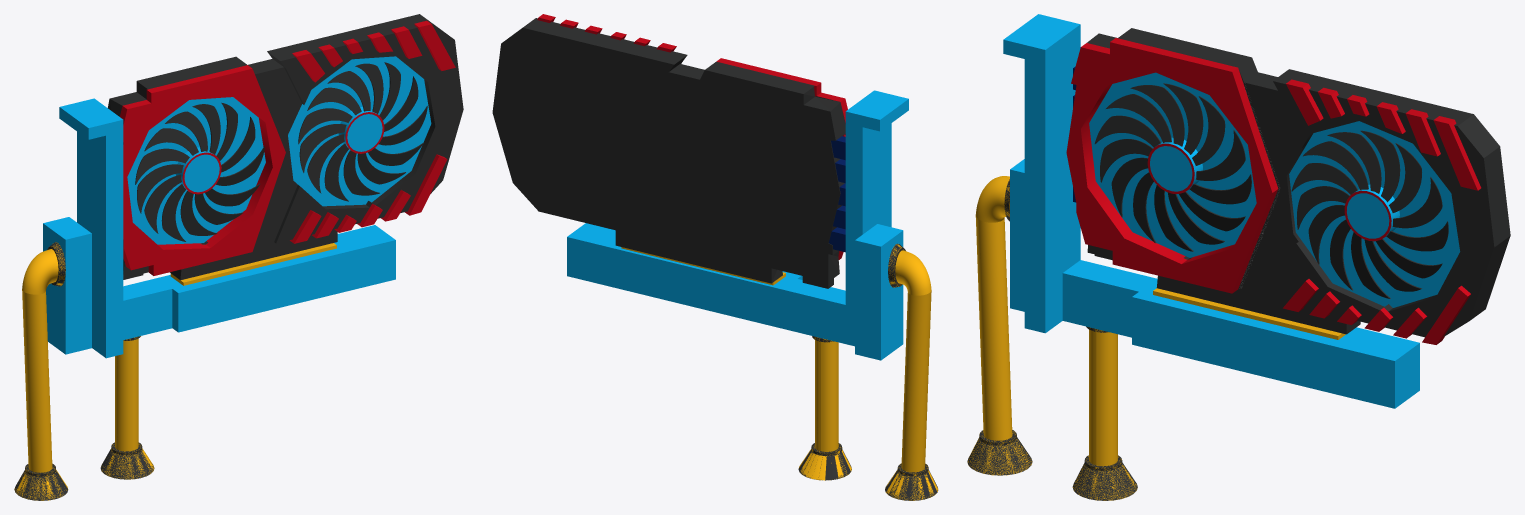
Rendered from gpu_2_fan.fbx.
3 views of the same model, side by side, from view 1: azimuth 30°, elevation 25°; view 2: azimuth 150°, elevation 25°; view 3: azimuth 330°, elevation 25° (orthographic). The views are drawn at different scales.
Visible parts, largest first — view 1: Group2, Group1, Group3, Group83, Group41, Group47, Group68, Group35, Group56, Group29, Group53, Group8 (+18 smaller); view 2: Group2, Group1, Group82; view 3: Group2, Group1, Group3, Group83, Group26, Group50, Group59, Group38, Group71, Group32, Group80, Group20 (+18 smaller).
Part boxes in pixels (bbox=[...]): Group2: bbox=[43, 14, 463, 358]; Group1: bbox=[14, 242, 154, 500]; Group3: bbox=[175, 107, 384, 194]; Group83: bbox=[170, 243, 336, 285]; Group41: bbox=[137, 164, 183, 213]; Group47: bbox=[300, 124, 346, 172]; Group68: bbox=[307, 134, 344, 193]; Group35: bbox=[144, 175, 181, 233]; Group56: bbox=[298, 108, 352, 143]; Group29: bbox=[136, 149, 189, 183]; Group53: bbox=[325, 144, 348, 201]; Group8: bbox=[162, 184, 185, 241]; Group2: bbox=[492, 14, 908, 360]; Group1: bbox=[798, 243, 938, 500]; Group82: bbox=[829, 136, 845, 252]; Group2: bbox=[1003, 14, 1510, 408]; Group1: bbox=[967, 176, 1137, 500]; Group3: bbox=[1147, 137, 1399, 241]; Group83: bbox=[1153, 288, 1345, 339]; Group26: bbox=[1130, 85, 1184, 146]; Group50: bbox=[1327, 132, 1380, 193]; Group59: bbox=[1360, 131, 1399, 201]; Group38: bbox=[1164, 84, 1202, 154]; Group71: bbox=[1303, 141, 1368, 189]; Group32: bbox=[1106, 94, 1171, 142]; Group80: bbox=[1389, 144, 1421, 212]; Group20: bbox=[1192, 96, 1224, 165].
Size of the model in its own units: 463 by 383 by 67.4.
